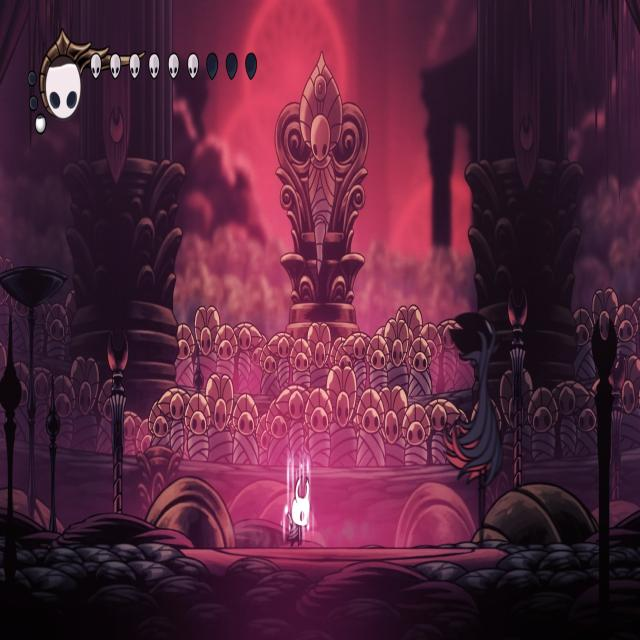Grimm: (438, 307, 502, 554)
Player: (283, 458, 312, 554)
